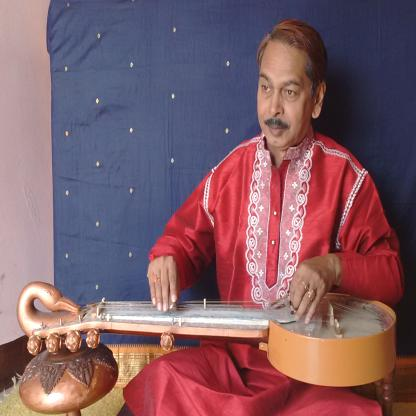Veena: (11, 276, 406, 416)
